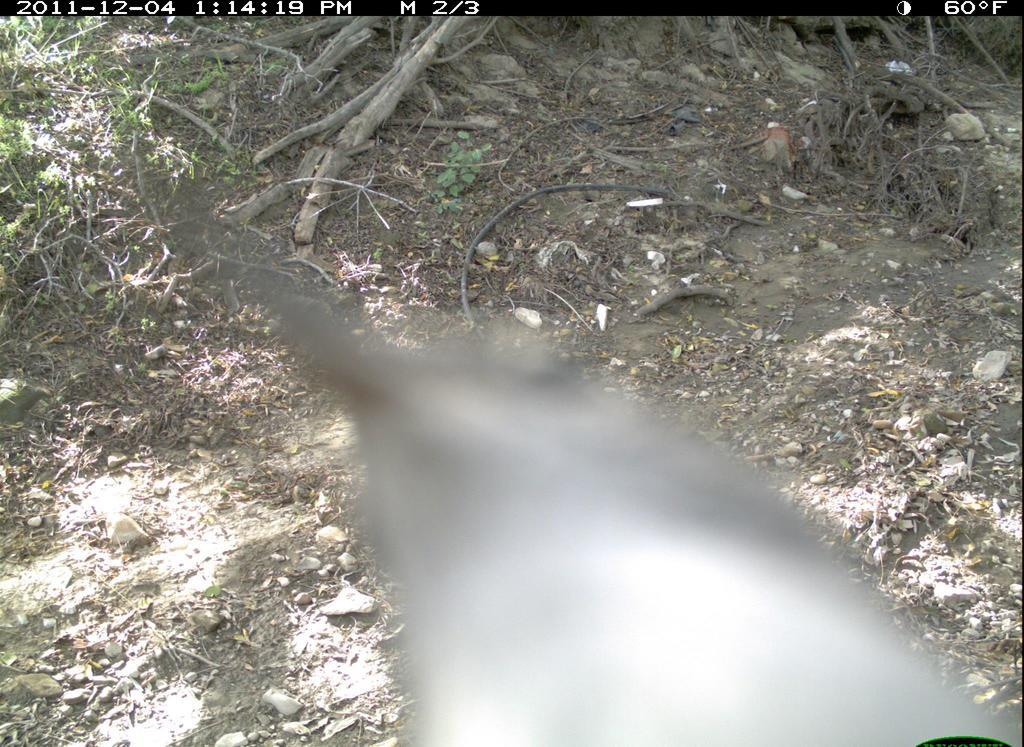bird: (172, 185, 1021, 747)
